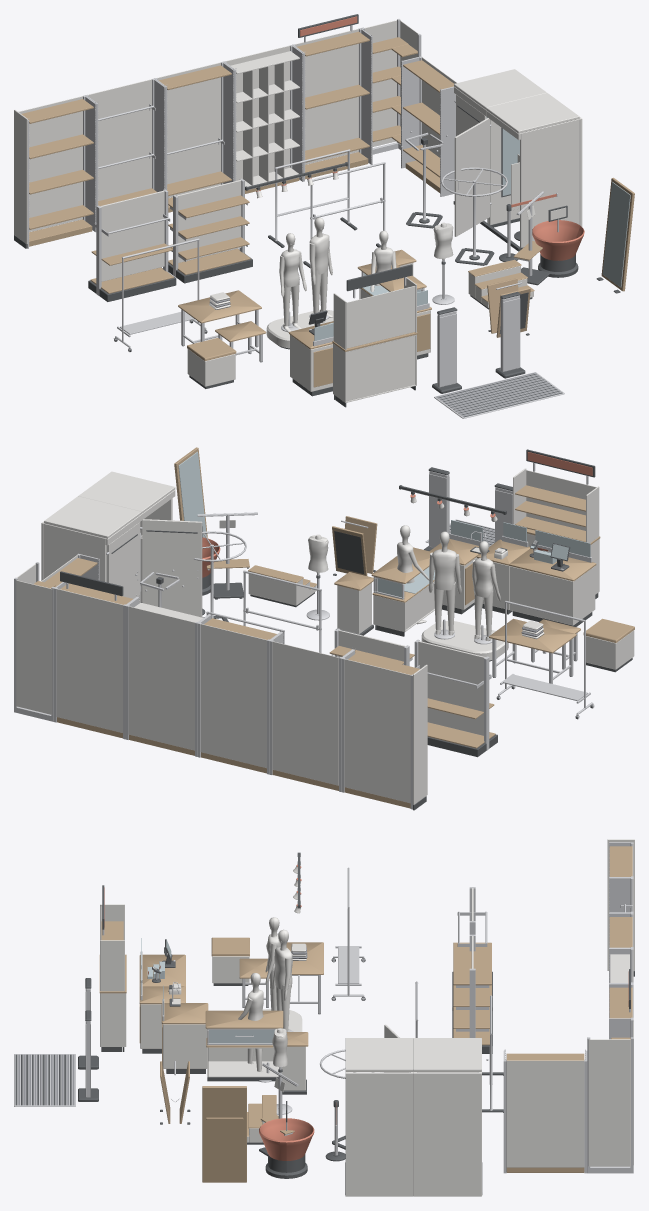
3 views of the same model, one above another, from view 1: azimuth 30°, elevation 25°; view 2: azimuth 150°, elevation 25°; view 3: azimuth 270°, elevation 25° (orthographic). The views are drawn at different scales.
Visible parts, largest first — view 1: 028-fitting-room-cubicle-open/0, 035-cash-desk-back-fixture/0, 003-wall-bay-cubbies/2, 001-wall-bay-hanging-rail/2, 002-wall-bay-shelf-and-rail/2, 004-wall-bay-header-sign/2, 008-mid-floor-gondola-hanging/1, 000-wall-bay-2400/2, 000-wall-bay-2400/1, 028-fitting-room-cubicle-open/cubicle-door/carcass, 006-wall-bay-2000/0, 009-mid-floor-gondola/3 (+49 smaller); view 2: 003-wall-bay-cubbies/2, 000-wall-bay-2400/2, 004-wall-bay-header-sign/2, 001-wall-bay-hanging-rail/2, 002-wall-bay-shelf-and-rail/2, 028-fitting-room-cubicle-open/cubicle-door/carcass, 027-fitting-room-cubicle/0, 005-wall-bay-corner/1, 008-mid-floor-gondola-hanging/1, 031-cash-desk-module-1200/1, 035-cash-desk-back-fixture/0, 028-fitting-room-cubicle-open/0 (+46 smaller); view 3: 028-fitting-room-cubicle-open/0, 027-fitting-room-cubicle/0, 006-wall-bay-2000/2, 005-wall-bay-corner/1, 045-full-length-mirror/0, 035-cash-desk-back-fixture/0, 009-mid-floor-gondola/3, 044-store-threshold-mat/0, 033-cash-desk-corner/1, 034-cash-desk-glazed-display-case/0, 026-promotional-dump-bin/1, 034-cash-desk-glazed-display-case/4 (+35 smaller).
Boxes of the visible parts, x1,y1,x2,y2 form: 028-fitting-room-cubicle-open/0: (486, 93, 582, 247); 035-cash-desk-back-fixture/0: (333, 277, 416, 402); 003-wall-bay-cubbies/2: (226, 45, 299, 186); 001-wall-bay-hanging-rail/2: (88, 79, 151, 200); 002-wall-bay-shelf-and-rail/2: (157, 62, 220, 198); 004-wall-bay-header-sign/2: (295, 28, 358, 164); 008-mid-floor-gondola-hanging/1: (100, 190, 164, 281); 000-wall-bay-2400/2: (19, 96, 82, 231); 000-wall-bay-2400/1: (21, 99, 93, 246); 028-fitting-room-cubicle-open/cubicle-door/carcass: (454, 118, 489, 236); 006-wall-bay-2000/0: (401, 56, 455, 196); 009-mid-floor-gondola/3: (168, 195, 250, 275); 003-wall-bay-cubbies/2: (128, 602, 202, 750); 000-wall-bay-2400/2: (344, 659, 410, 803); 004-wall-bay-header-sign/2: (56, 588, 122, 732); 001-wall-bay-hanging-rail/2: (272, 641, 338, 785); 002-wall-bay-shelf-and-rail/2: (200, 624, 266, 768); 028-fitting-room-cubicle-open/cubicle-door/carcass: (142, 519, 202, 617); 027-fitting-room-cubicle/0: (41, 496, 141, 582); 005-wall-bay-corner/1: (16, 564, 52, 714); 008-mid-floor-gondola-hanging/1: (418, 641, 485, 735); 031-cash-desk-module-1200/1: (509, 566, 595, 625); 035-cash-desk-back-fixture/0: (513, 468, 599, 594); 028-fitting-room-cubicle-open/0: (78, 471, 175, 602); 028-fitting-room-cubicle-open/0: (345, 1038, 413, 1196); 027-fitting-room-cubicle/0: (413, 1038, 481, 1196); 006-wall-bay-2000/2: (506, 1060, 584, 1167); 005-wall-bay-corner/1: (588, 1021, 633, 1166); 045-full-length-mirror/0: (202, 1086, 246, 1182); 035-cash-desk-back-fixture/0: (100, 904, 126, 1046); 009-mid-floor-gondola/3: (453, 951, 491, 1045); 044-store-threshold-mat/0: (14, 1054, 75, 1106); 033-cash-desk-corner/1: (162, 1024, 207, 1068); 034-cash-desk-glazed-display-case/0: (207, 1047, 279, 1077); 026-promotional-dump-bin/1: (259, 1118, 314, 1160); 034-cash-desk-glazed-display-case/4: (205, 1010, 283, 1047).
Bounding box in the file's own units: 8.99 × 2.85 × 10.02.
